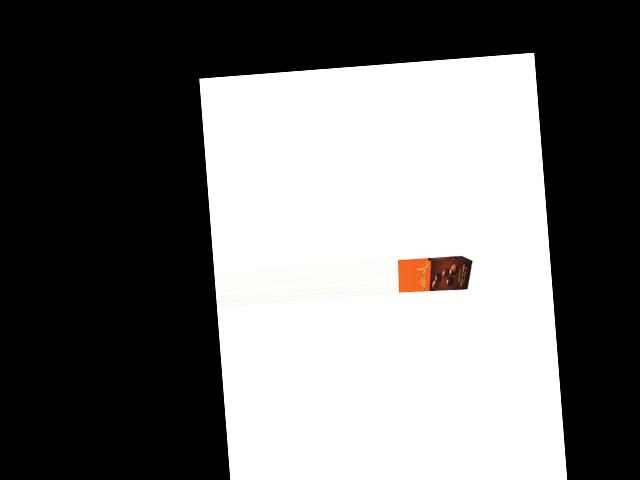chocolate: (396, 252, 474, 298)
